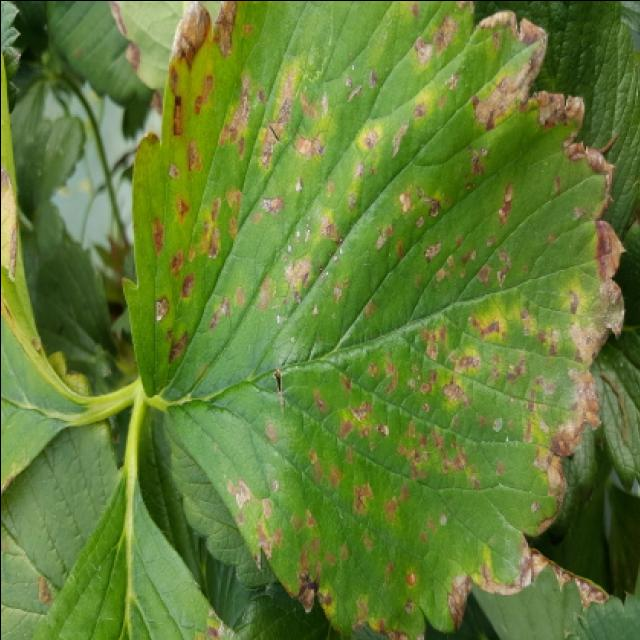Angular Leafspot: (120, 2, 631, 640)
